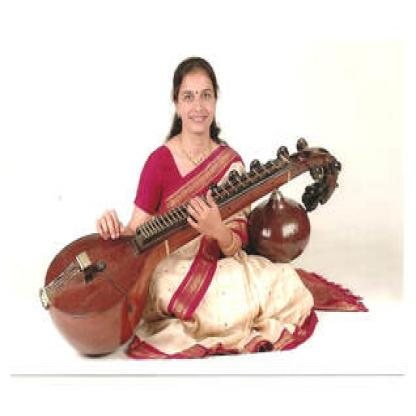Veena: (35, 156, 283, 350)
